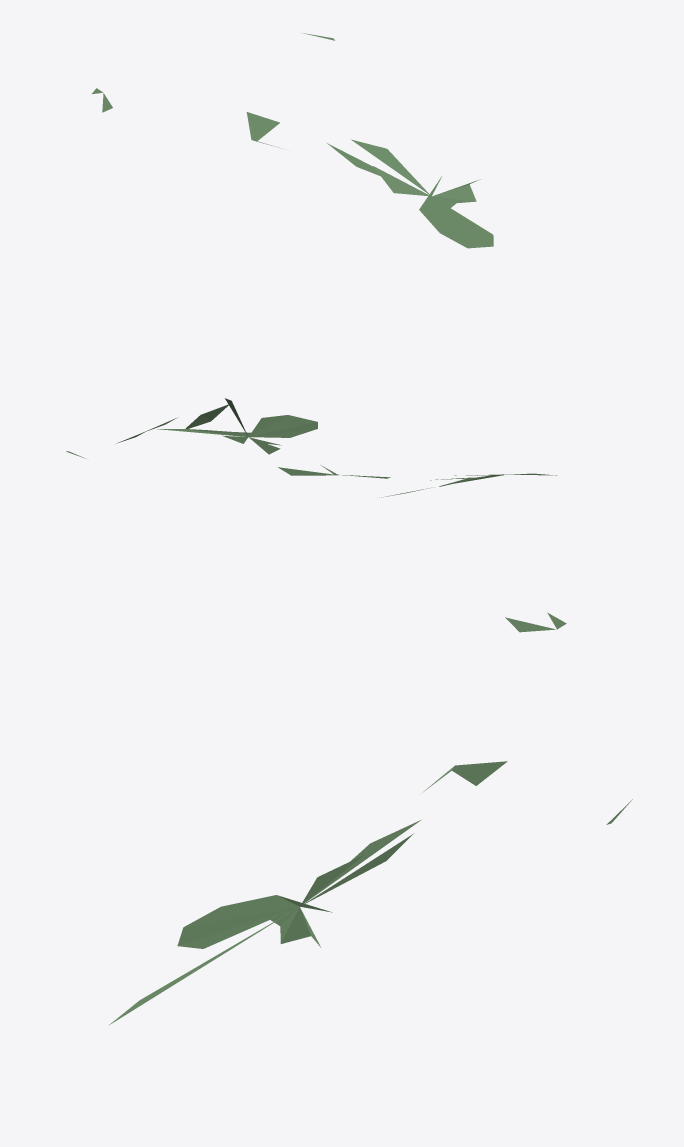
Rendered from c_1665_17820_forest.glb.
The picture shows the model from 3 angles, top to bottom: view 1: azimuth 30°, elevation 25°; view 2: azimuth 150°, elevation 25°; view 3: azimuth 270°, elevation 25°; orthographic projection. The views are drawn at different scales.
Parts seen in each view (by area): view 1: geometry_0; view 2: geometry_0; view 3: geometry_0.
Boxes of the visible parts, x1=… form: geometry_0: x1=92, y1=33, x2=493, y2=248; geometry_0: x1=66, y1=398, x2=557, y2=497; geometry_0: x1=108, y1=612, x2=632, y2=1025.
Bounding box in the file's own units: 267 × 118 × 240.
